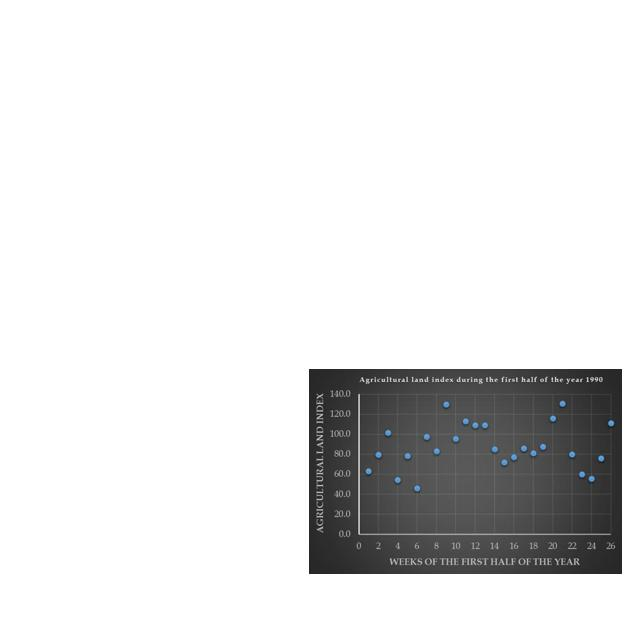Graph: (309, 369, 622, 574)
